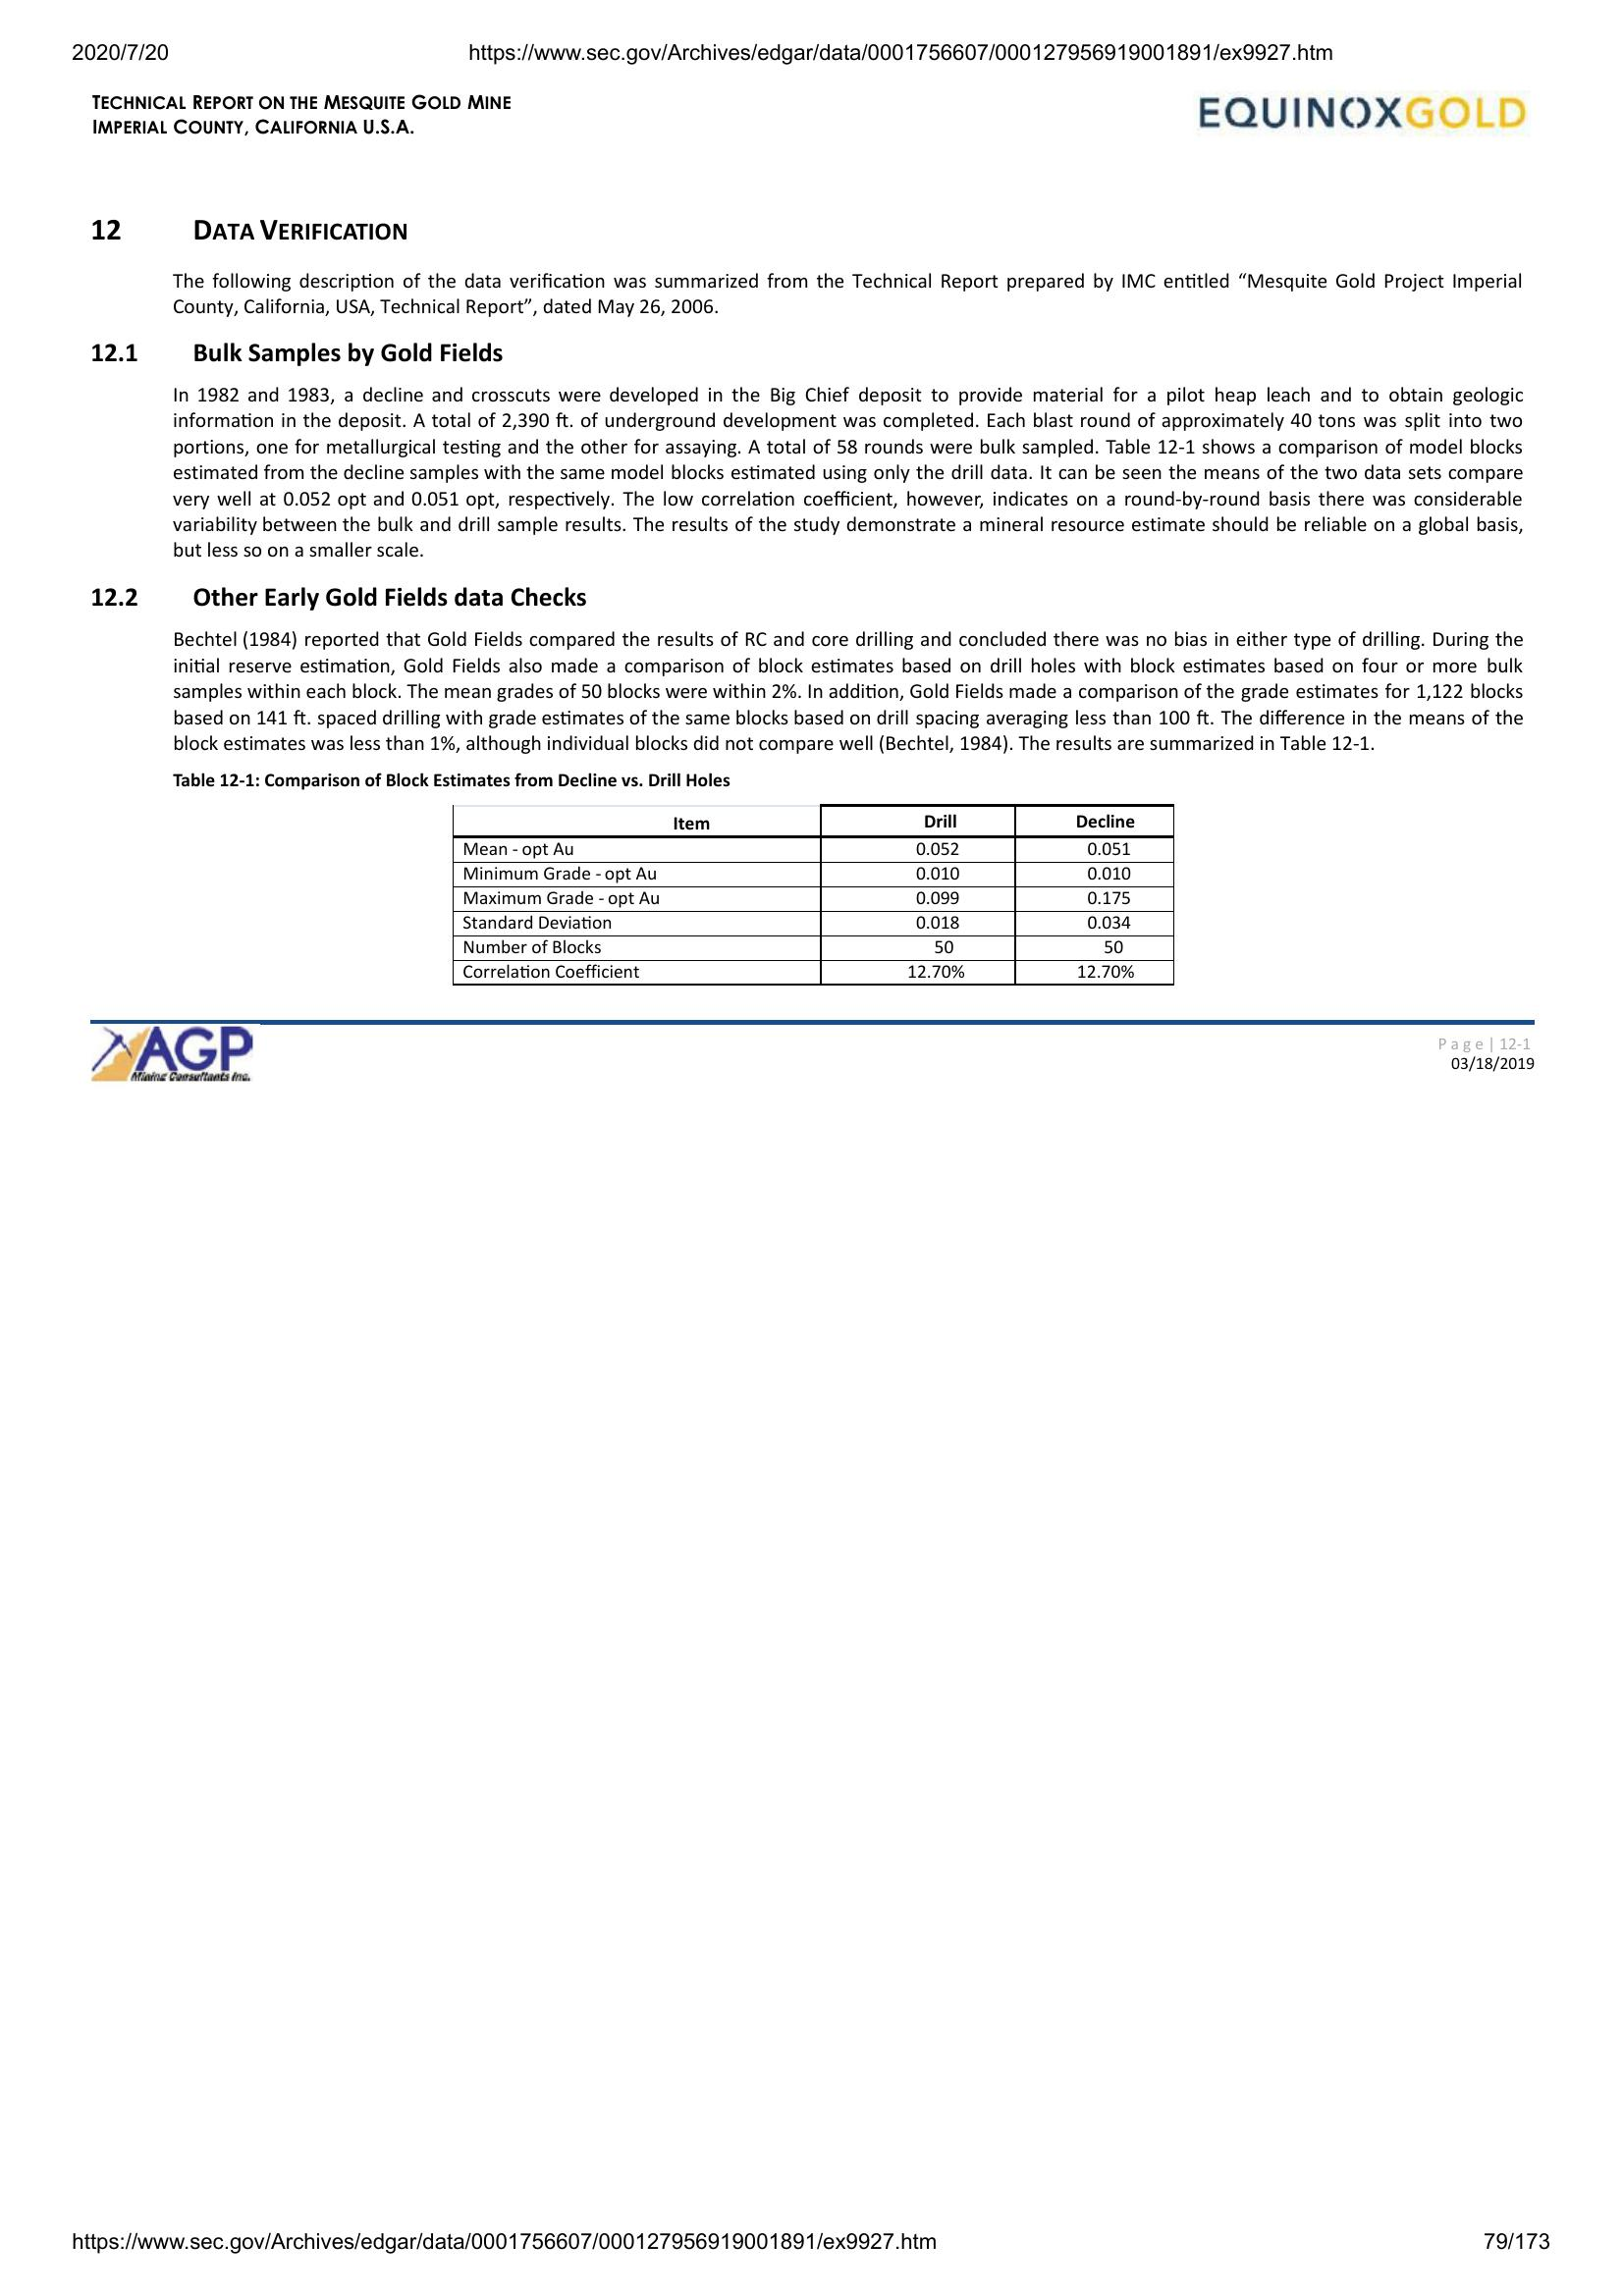table: (448, 799, 1179, 992)
